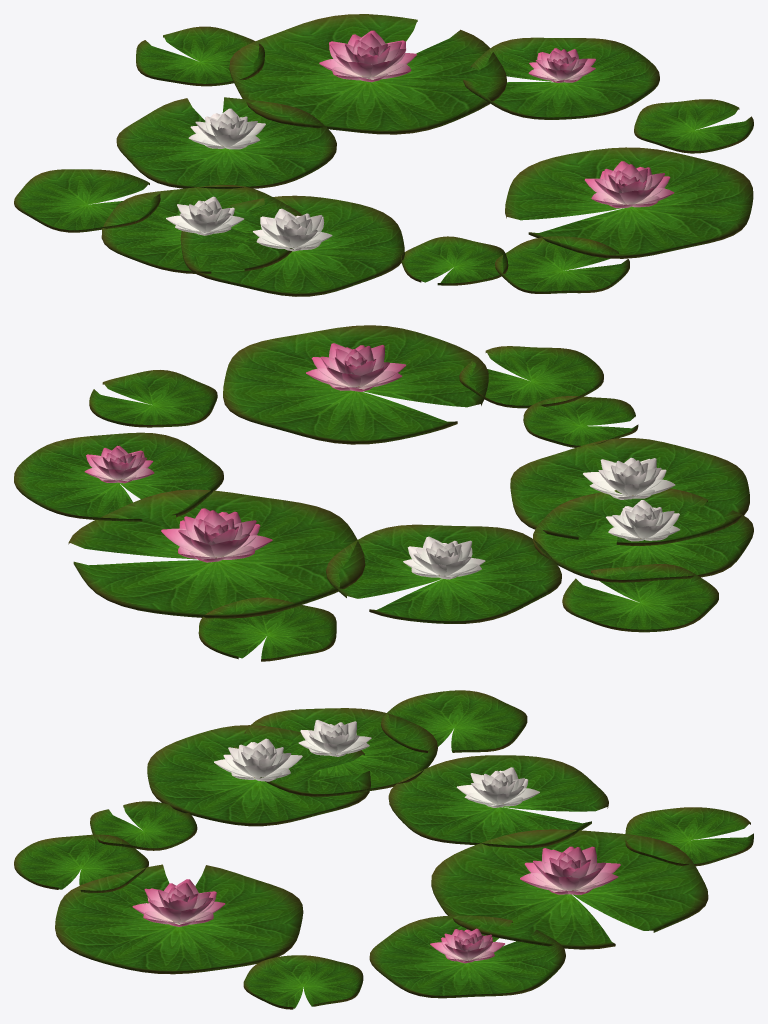
The model's file is lily-pads-hd.glb.
3 views of the same model, one above another, from view 1: azimuth 30°, elevation 25°; view 2: azimuth 150°, elevation 25°; view 3: azimuth 270°, elevation 25° (orthographic). The views are drawn at different scales.
Parts seen in each view (by area): view 1: lily-pads, lotus-blooms; view 2: lily-pads, lotus-blooms; view 3: lily-pads, lotus-blooms.
Part boxes in pixels (x1,y1,x2,y2): lily-pads: [14, 14, 753, 296]; lotus-blooms: [166, 30, 674, 251]; lily-pads: [14, 325, 753, 661]; lotus-blooms: [84, 343, 680, 579]; lily-pads: [14, 690, 753, 1009]; lotus-blooms: [132, 720, 620, 963].
Bounding box in the file's own units: 1.68 × 0.0912 × 1.67.
Materials: 2 (2 with a texture image).
